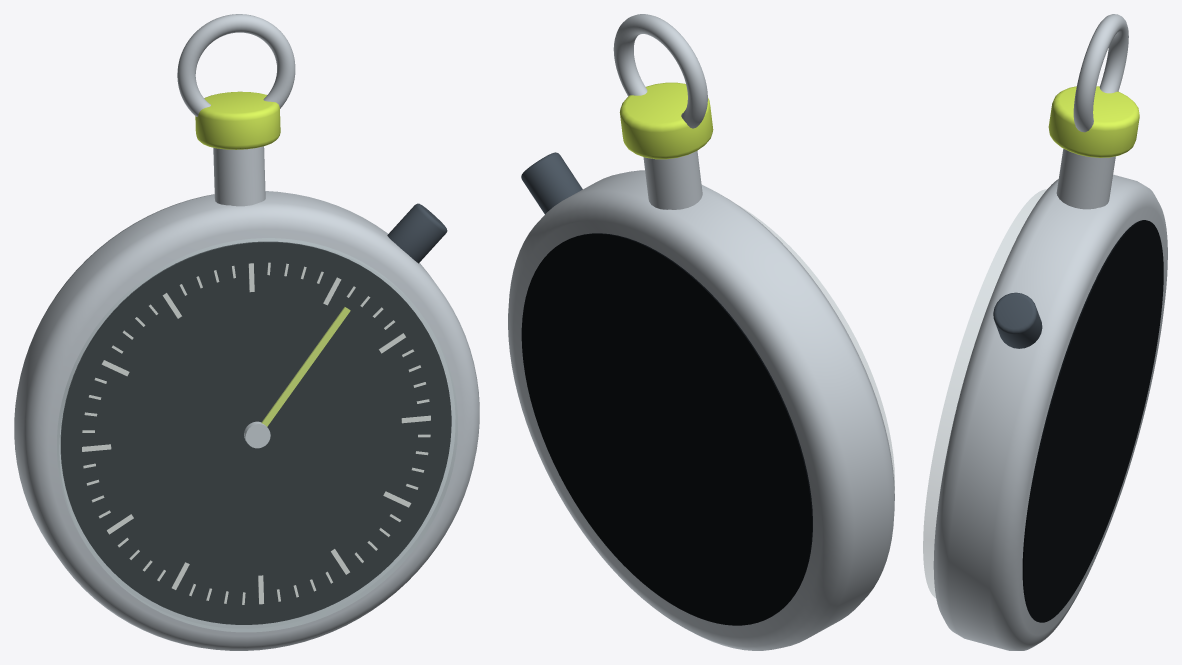
The model's file is stopwatch.glb.
3 views of the same model, side by side, from view 1: azimuth 30°, elevation 25°; view 2: azimuth 150°, elevation 25°; view 3: azimuth 270°, elevation 25° (orthographic). The views are drawn at different scales.
Parts seen in each view (by area): view 1: titan.stopwatch.glass, titan.stopwatch.dial, titan.stopwatch.case, titan.stopwatch.ring, titan.stopwatch.crown, titan.stopwatch.stem, titan.stopwatch.button, titan.stopwatch.hand; view 2: titan.stopwatch.dial, titan.stopwatch.case, titan.stopwatch.crown, titan.stopwatch.ring, titan.stopwatch.stem, titan.stopwatch.button, titan.stopwatch.glass; view 3: titan.stopwatch.case, titan.stopwatch.dial, titan.stopwatch.glass, titan.stopwatch.crown, titan.stopwatch.ring, titan.stopwatch.stem, titan.stopwatch.button.
Part boxes in pixels (box(x1,y1,x2,y2)): titan.stopwatch.glass: box(57, 238, 457, 631); titan.stopwatch.dial: box(60, 241, 451, 624); titan.stopwatch.case: box(14, 191, 479, 650); titan.stopwatch.ring: box(177, 14, 295, 116); titan.stopwatch.crown: box(195, 91, 280, 149); titan.stopwatch.stem: box(213, 146, 265, 206); titan.stopwatch.button: box(387, 203, 447, 263); titan.stopwatch.hand: box(261, 307, 350, 426); titan.stopwatch.dial: box(521, 233, 812, 625); titan.stopwatch.case: box(508, 170, 894, 650); titan.stopwatch.crown: box(619, 82, 713, 159); titan.stopwatch.ring: box(613, 14, 707, 128); titan.stopwatch.stem: box(643, 150, 702, 209); titan.stopwatch.button: box(521, 152, 582, 214); titan.stopwatch.glass: box(741, 207, 894, 486); titan.stopwatch.case: box(933, 174, 1167, 650); titan.stopwatch.dial: box(954, 220, 1163, 622); titan.stopwatch.glass: box(923, 189, 1046, 597); titan.stopwatch.crown: box(1048, 86, 1139, 157); titan.stopwatch.ring: box(1073, 14, 1128, 132); titan.stopwatch.stem: box(1056, 148, 1115, 209); titan.stopwatch.button: box(993, 292, 1042, 348).
Size of the model in its own units: 1.08 by 1.54 by 0.5528.
